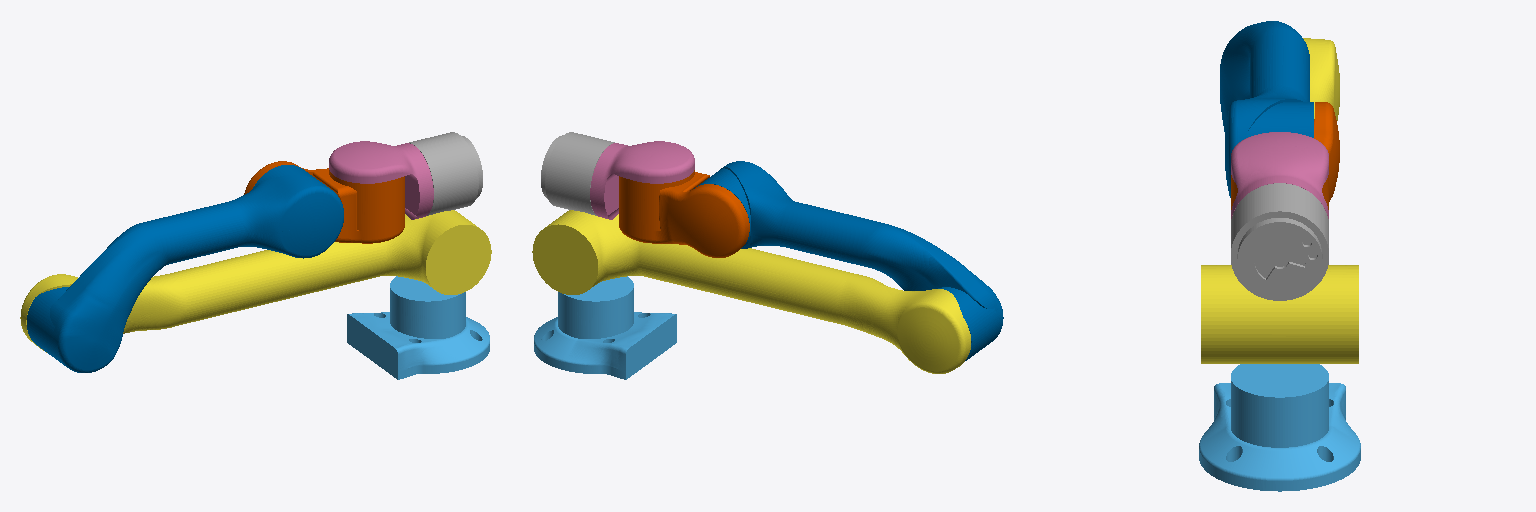
The robot description file, URDF, robot "z1_description":
<?xml version="1.0" ?>
<!-- =================================================================================== -->
<!-- |    This document was autogenerated by xacro from robot.xacro                    | -->
<!-- |    EDITING THIS FILE BY HAND IS NOT RECOMMENDED                                 | -->
<!-- =================================================================================== -->
<robot name="z1_description">
  <gazebo>
    <plugin filename="libgazebo_ros_control.so" name="gazebo_ros_control">
      <robotNamespace>/z1_gazebo</robotNamespace>
      <robotSimType>gazebo_ros_control/DefaultRobotHWSim</robotSimType>
    </plugin>
  </gazebo>
  <gazebo reference="link04">
    <self_collide>true</self_collide>
  </gazebo>
  <gazebo reference="link05">
    <self_collide>true</self_collide>
  </gazebo>
  <gazebo reference="link06">
    <self_collide>true</self_collide>
  </gazebo>
  <link name="world"/>
  <joint name="base_static_joint" type="fixed">
    <origin rpy="0 0 0" xyz="0 0 0"/>
    <parent link="world"/>
    <child link="link00"/>
  </joint>
  <link name="link00">
    <visual>
      <origin rpy="0 0 0" xyz="0 0 0"/>
      <geometry>
        <mesh filename="package://z1_description/meshes/visual/z1_Link00.dae" scale="1 1 1"/>
      </geometry>
    </visual>
    <collision>
      <geometry>
        <cylinder length="0.051" radius="0.0325"/>
      </geometry>
      <origin rpy="0 0 0" xyz="0 0 0.0255"/>
    </collision>
    <inertial>
      <origin rpy="0 0 0" xyz="-0.00334984 -0.00013615 0.02495843"/>
      <mass value="0.47247481"/>
      <inertia ixx="0.00037937" ixy="-3.5e-07" ixz="-1.037e-05" iyy="0.00041521" iyz="-9.9e-07" izz="0.00053066"/>
    </inertial>
  </link>
  <joint name="joint1" type="revolute">
    <origin rpy="0 0 0" xyz="0 0 0.0585"/>
    <parent link="link00"/>
    <child link="link01"/>
    <axis xyz="0 0 1"/>
    <dynamics damping="1.0" friction="1.0"/>
    <limit effort="30.0" lower="-2.6179938779914944" upper="2.6179938779914944" velocity="3.1415"/>
  </joint>
  <link name="link01">
    <visual>
      <origin rpy="0 0 0" xyz="0 0 0"/>
      <geometry>
        <mesh filename="package://z1_description/meshes/visual/z1_Link01.dae" scale="1 1 1"/>
      </geometry>
    </visual>
    <inertial>
      <origin rpy="0 0 0" xyz="2.47e-06 -0.00025198 0.02317169"/>
      <mass value="0.67332551"/>
      <inertia ixx="0.00128328" ixy="-6e-08" ixz="-4e-07" iyy="0.00071931" iyz="5e-07" izz="0.00083936"/>
    </inertial>
  </link>
  <joint name="joint2" type="revolute">
    <origin rpy="0 0 0" xyz="0 0 0.045"/>
    <parent link="link01"/>
    <child link="link02"/>
    <axis xyz="0 1 0"/>
    <dynamics damping="2.0" friction="2.0"/>
    <limit effort="60.0" lower="0.0" upper="2.9670597283903604" velocity="3.1415"/>
  </joint>
  <link name="link02">
    <visual>
      <origin rpy="0 0 0" xyz="0 0 0"/>
      <geometry>
        <mesh filename="package://z1_description/meshes/visual/z1_Link02.dae" scale="1 1 1"/>
      </geometry>
    </visual>
    <collision>
      <geometry>
        <cylinder length="0.102" radius="0.0325"/>
      </geometry>
      <origin rpy="1.5707963267948966 0 0" xyz="0 0 0"/>
    </collision>
    <collision>
      <geometry>
        <cylinder length="0.235" radius="0.0225"/>
      </geometry>
      <origin rpy="0 1.5707963267948966 0" xyz="-0.16249999999999998 0 0"/>
    </collision>
    <collision>
      <geometry>
        <cylinder length="0.051" radius="0.0325"/>
      </geometry>
      <origin rpy="1.5707963267948966 0 0" xyz="-0.35 0 0"/>
    </collision>
    <inertial>
      <origin rpy="0 0 0" xyz="-0.11012601 0.00240029 0.00158266"/>
      <mass value="1.19132258"/>
      <inertia ixx="0.00102138" ixy="0.00062358" ixz="5.13e-06" iyy="0.02429457" iyz="-2.1e-06" izz="0.02466114"/>
    </inertial>
  </link>
  <joint name="joint3" type="revolute">
    <origin rpy="0 0 0" xyz="-0.35 0 0"/>
    <parent link="link02"/>
    <child link="link03"/>
    <axis xyz="0 1 0"/>
    <dynamics damping="1.0" friction="1.0"/>
    <limit effort="30.0" lower="-2.8797932657906435" upper="0.0" velocity="3.1415"/>
  </joint>
  <link name="link03">
    <visual>
      <origin rpy="0 0 0" xyz="0 0 0"/>
      <geometry>
        <mesh filename="package://z1_description/meshes/visual/z1_Link03.dae" scale="1 1 1"/>
      </geometry>
    </visual>
    <collision>
      <geometry>
        <cylinder length="0.116" radius="0.02"/>
      </geometry>
      <origin rpy="0 1.5707963267948966 0" xyz="0.128 0 0.055"/>
    </collision>
    <collision>
      <geometry>
        <cylinder length="0.059" radius="0.0325"/>
      </geometry>
      <origin rpy="0 1.5707963267948966 1.5707963267948966" xyz="0.2205 0 0.055"/>
    </collision>
    <inertial>
      <origin rpy="0 0 0" xyz="0.10609208 -0.00541815 0.03476383"/>
      <mass value="0.83940874"/>
      <inertia ixx="0.00108061" ixy="-8.669e-05" ixz="-0.00208102" iyy="0.00954238" iyz="-1.332e-05" izz="0.00886621"/>
    </inertial>
  </link>
  <joint name="joint4" type="revolute">
    <origin rpy="0 0 0" xyz="0.218 0 0.057"/>
    <parent link="link03"/>
    <child link="link04"/>
    <axis xyz="0 1 0"/>
    <dynamics damping="1.0" friction="1.0"/>
    <limit effort="30.0" lower="-1.5184364492350666" upper="1.5184364492350666" velocity="3.1415"/>
  </joint>
  <link name="link04">
    <visual>
      <origin rpy="0 0 0" xyz="0 0 0"/>
      <geometry>
        <mesh filename="package://z1_description/meshes/visual/z1_Link04.dae" scale="1 1 1"/>
      </geometry>
    </visual>
    <collision>
      <geometry>
        <cylinder length="0.067" radius="0.0325"/>
      </geometry>
      <origin rpy="0 0 0" xyz="0.072 0 0"/>
    </collision>
    <inertial>
      <origin rpy="0 0 0" xyz="0.04366681 0.00364738 -0.00170192"/>
      <mass value="0.56404563"/>
      <inertia ixx="0.00031576" ixy="8.13e-05" ixz="4.091e-05" iyy="0.00092996" iyz="-5.96e-06" izz="0.00097912"/>
    </inertial>
  </link>
  <joint name="joint5" type="revolute">
    <origin rpy="0 0 0" xyz="0.07 0.0 0.0"/>
    <parent link="link04"/>
    <child link="link05"/>
    <axis xyz="0 0 1"/>
    <dynamics damping="1.0" friction="1.0"/>
    <limit effort="30.0" lower="-1.3439035240356338" upper="1.3439035240356338" velocity="3.1415"/>
  </joint>
  <link name="link05">
    <visual>
      <origin rpy="0 0 0" xyz="0 0 0"/>
      <geometry>
        <mesh filename="package://z1_description/meshes/visual/z1_Link05.dae" scale="1 1 1"/>
      </geometry>
    </visual>
    <inertial>
      <origin rpy="0 0 0" xyz="0.03121533 0.0 0.00646316"/>
      <mass value="0.38938492"/>
      <inertia ixx="0.00017605" ixy="4e-07" ixz="5.689e-05" iyy="0.00055896" iyz="-1.3e-07" izz="0.0005386"/>
    </inertial>
  </link>
  <joint name="joint6" type="revolute">
    <origin rpy="0 0 0" xyz="0.0492 0.0 0.0"/>
    <parent link="link05"/>
    <child link="link06"/>
    <axis xyz="1 0 0"/>
    <dynamics damping="1.0" friction="1.0"/>
    <limit effort="30.0" lower="-2.792526803190927" upper="2.792526803190927" velocity="3.1415"/>
  </joint>
  <link name="link06">
    <visual>
      <origin rpy="0 0 0" xyz="0 0 0"/>
      <geometry>
        <mesh filename="package://z1_description/meshes/visual/z1_Link06.dae" scale="1 1 1"/>
      </geometry>
    </visual>
    <collision>
      <geometry>
        <cylinder length="0.051" radius="0.0325"/>
      </geometry>
      <origin rpy="0 1.5707963267948966 0" xyz="0.0255 0 0"/>
    </collision>
    <inertial>
      <origin rpy="0 0 0" xyz="0.0241569 -0.00017355 -0.00143876"/>
      <mass value="0.28875807"/>
      <inertia ixx="0.00018328" ixy="1.22e-06" ixz="5.4e-07" iyy="0.0001475" iyz="8e-08" izz="0.0001468"/>
    </inertial>
  </link>
  <transmission name="JointTrans1">
    <type>transmission_interface/SimpleTransmission</type>
    <joint name="joint1">
      <hardwareInterface>hardware_interface/EffortJointInterface</hardwareInterface>
    </joint>
    <actuator name="Actuator1">
      <hardwareInterface>hardware_interface/EffortJointInterface</hardwareInterface>
      <mechanicalReduction>1</mechanicalReduction>
    </actuator>
  </transmission>
  <transmission name="JointTrans2">
    <type>transmission_interface/SimpleTransmission</type>
    <joint name="joint2">
      <hardwareInterface>hardware_interface/EffortJointInterface</hardwareInterface>
    </joint>
    <actuator name="Actuator2">
      <hardwareInterface>hardware_interface/EffortJointInterface</hardwareInterface>
      <mechanicalReduction>1</mechanicalReduction>
    </actuator>
  </transmission>
  <transmission name="JointTrans3">
    <type>transmission_interface/SimpleTransmission</type>
    <joint name="joint3">
      <hardwareInterface>hardware_interface/EffortJointInterface</hardwareInterface>
    </joint>
    <actuator name="Actuator3">
      <hardwareInterface>hardware_interface/EffortJointInterface</hardwareInterface>
      <mechanicalReduction>1</mechanicalReduction>
    </actuator>
  </transmission>
  <transmission name="JointTrans4">
    <type>transmission_interface/SimpleTransmission</type>
    <joint name="joint4">
      <hardwareInterface>hardware_interface/EffortJointInterface</hardwareInterface>
    </joint>
    <actuator name="Actuator4">
      <hardwareInterface>hardware_interface/EffortJointInterface</hardwareInterface>
      <mechanicalReduction>1</mechanicalReduction>
    </actuator>
  </transmission>
  <transmission name="JointTrans5">
    <type>transmission_interface/SimpleTransmission</type>
    <joint name="joint5">
      <hardwareInterface>hardware_interface/EffortJointInterface</hardwareInterface>
    </joint>
    <actuator name="Actuator5">
      <hardwareInterface>hardware_interface/EffortJointInterface</hardwareInterface>
      <mechanicalReduction>1</mechanicalReduction>
    </actuator>
  </transmission>
  <transmission name="JointTrans6">
    <type>transmission_interface/SimpleTransmission</type>
    <joint name="joint6">
      <hardwareInterface>hardware_interface/EffortJointInterface</hardwareInterface>
    </joint>
    <actuator name="Actuator6">
      <hardwareInterface>hardware_interface/EffortJointInterface</hardwareInterface>
      <mechanicalReduction>1</mechanicalReduction>
    </actuator>
  </transmission>
</robot>


--- Render facts (derived) ---
Views: 3 orthographic renders of the robot side by side, from view 1: azimuth 30°, elevation 25°; view 2: azimuth 150°, elevation 25°; view 3: azimuth 270°, elevation 25°.
Robot: z1_description — 8 links, 7 joints (6 revolute, 1 fixed); root link world; default pose: all joints at 0.
Links seen in each view (by area): view 1: link03, link02, link00, link04, link05, link06; view 2: link02, link03, link00, link04, link05, link06; view 3: link00, link02, link03, link06, link05, link04.
Link boxes in pixels (<box>): link03: <box>27,165,343,372</box>; link02: <box>20,210,491,352</box>; link00: <box>347,276,489,379</box>; link04: <box>244,161,404,243</box>; link05: <box>329,141,433,219</box>; link06: <box>409,132,482,215</box>; link02: <box>532,210,970,373</box>; link03: <box>694,161,1003,360</box>; link00: <box>534,276,676,379</box>; link04: <box>619,170,749,257</box>; link05: <box>590,141,694,219</box>; link06: <box>541,132,614,215</box>; link00: <box>1199,364,1360,491</box>; link02: <box>1201,38,1358,363</box>; link03: <box>1220,21,1313,197</box>; link06: <box>1231,183,1328,300</box>; link05: <box>1231,132,1328,218</box>; link04: <box>1231,102,1339,209</box>.
Bounding box of the posed robot: 0.4357 × 0.1065 × 0.198 m (x, y, z).
Meshes: 7 distinct files referenced, 6 mesh visuals loaded (6 Collada DAE); not drawn: 1 (reference not matched to a file when rendering).